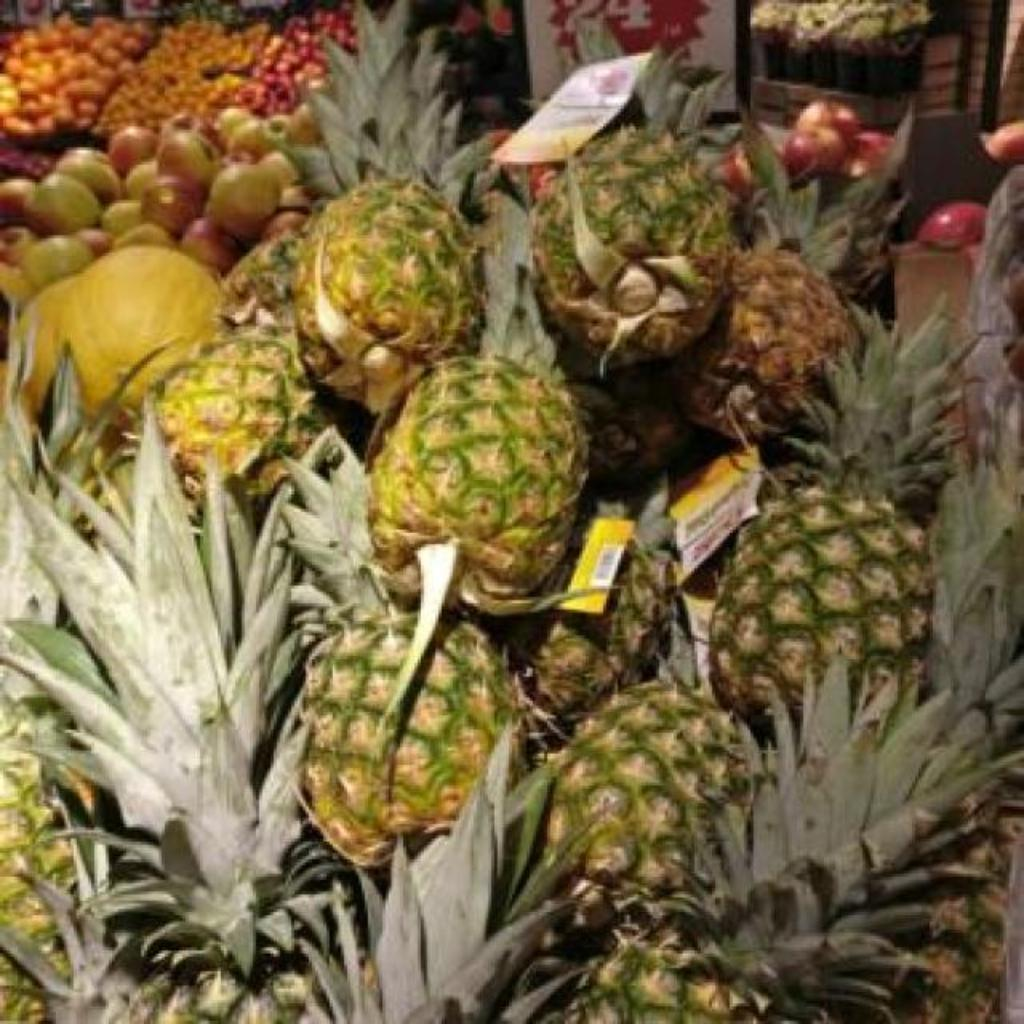pineapple: (564, 666, 1002, 1023), (712, 314, 962, 725), (284, 430, 514, 863), (370, 194, 588, 609), (298, 0, 488, 413), (372, 194, 586, 545), (676, 136, 892, 441), (534, 52, 736, 367), (156, 236, 328, 497), (548, 682, 750, 887), (530, 480, 678, 717), (158, 334, 328, 497)
